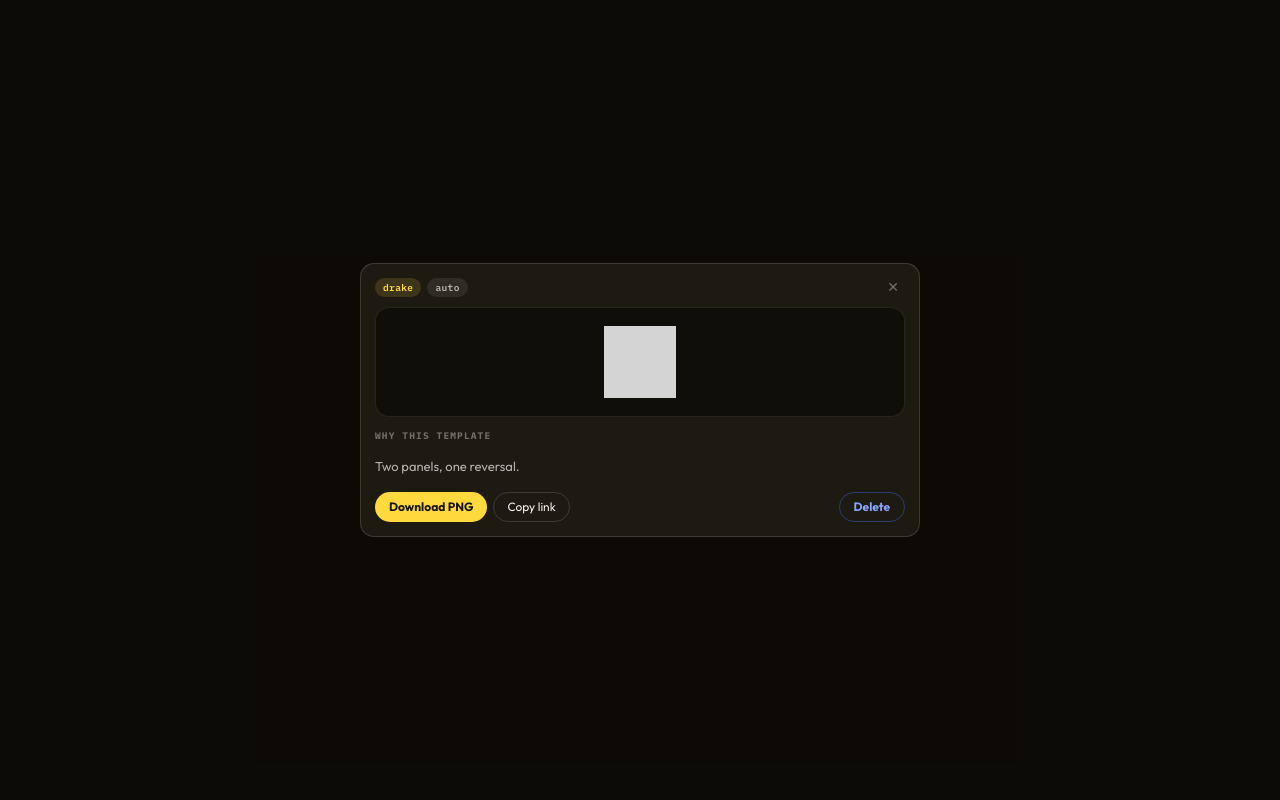
RenderModal › stays open, and says why, when the server will not delete
Click the button "Delete": x=872, y=507 left=838, top=492, right=905, bottom=522
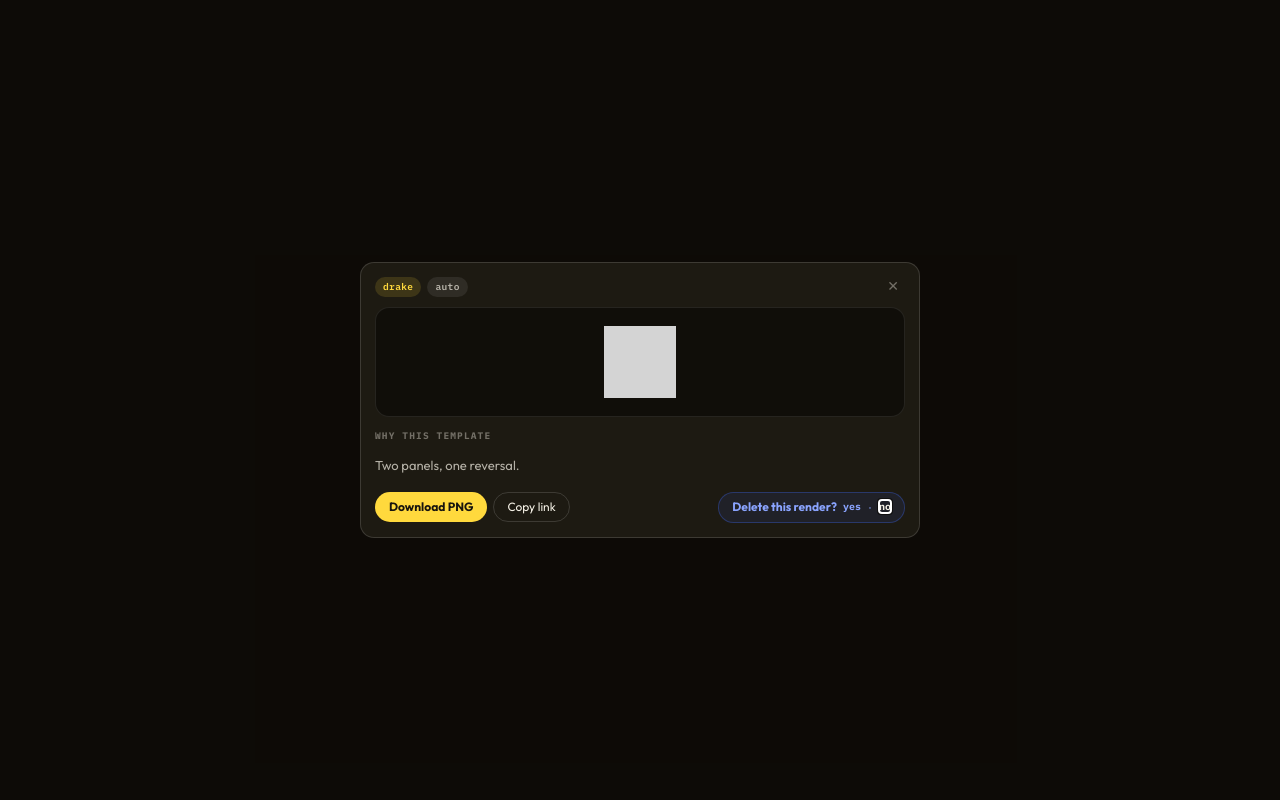
Click the button "yes": x=852, y=507 left=843, top=502, right=861, bottom=512
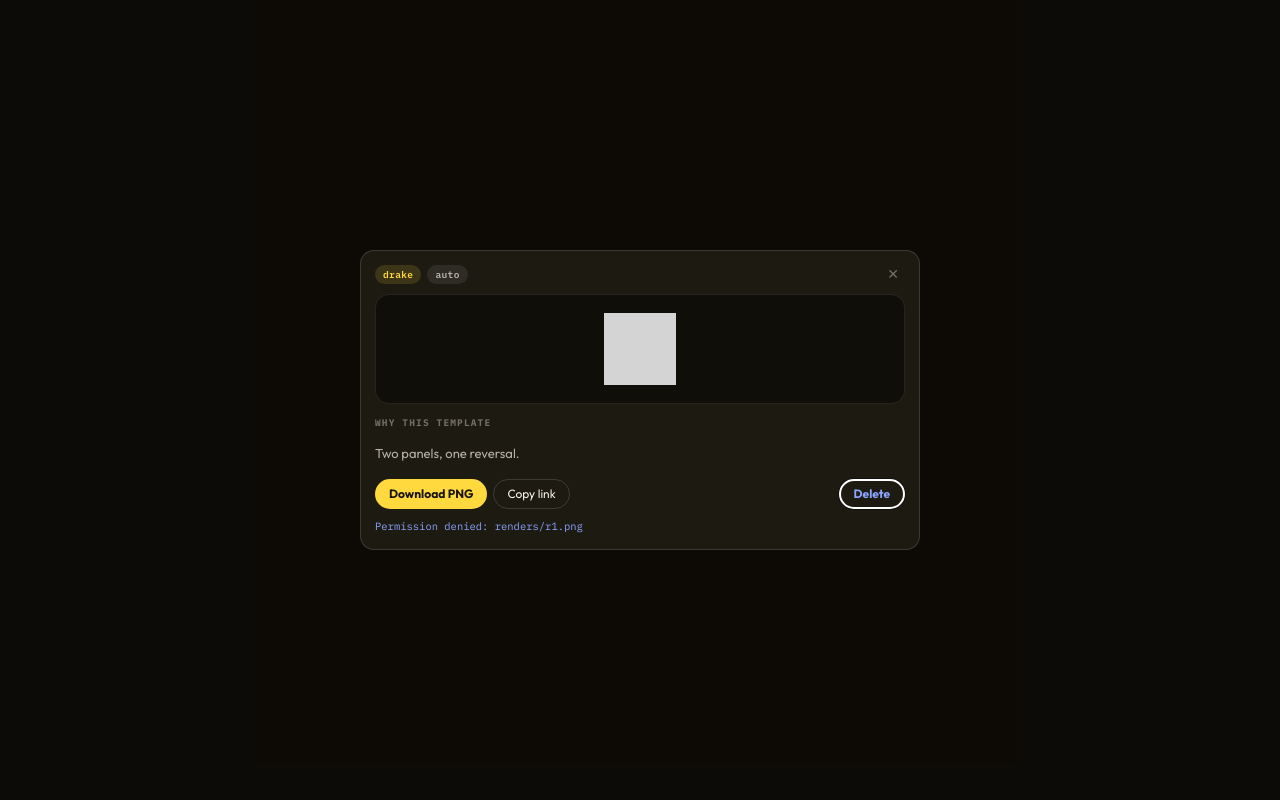
Expected: the dialog is shown, left=360, top=250, right=920, bottom=550
Expected: the message reads "Permission denied: renders/r1.png", left=375, top=519, right=583, bottom=533
